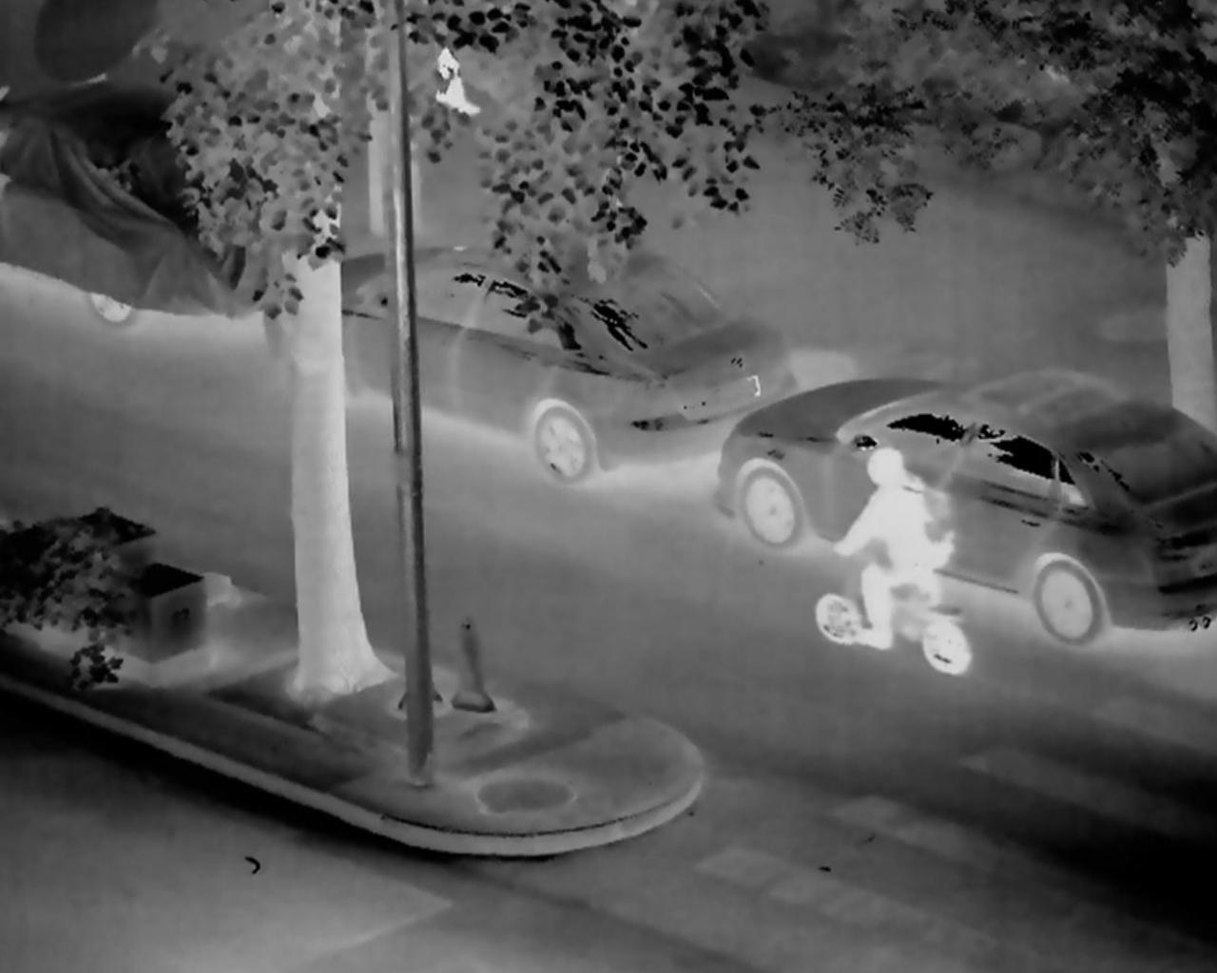person: (801, 443, 999, 706)
